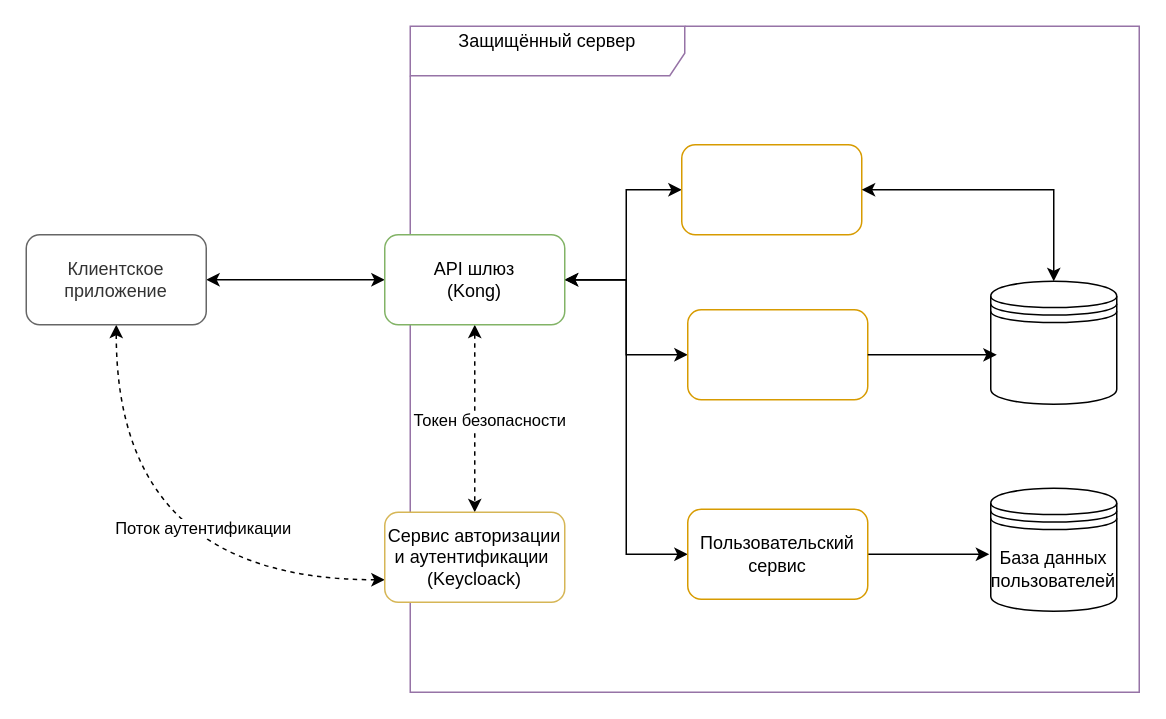
This 1166x719 diagram has some shape labels left out. The centre of each missing label's shape, as x and y in pixels:
"База данных аренды" goes at [1053,342].
"Сервис аренды" goes at [771,189].
"Сервис инструментов" goes at [777,354].
